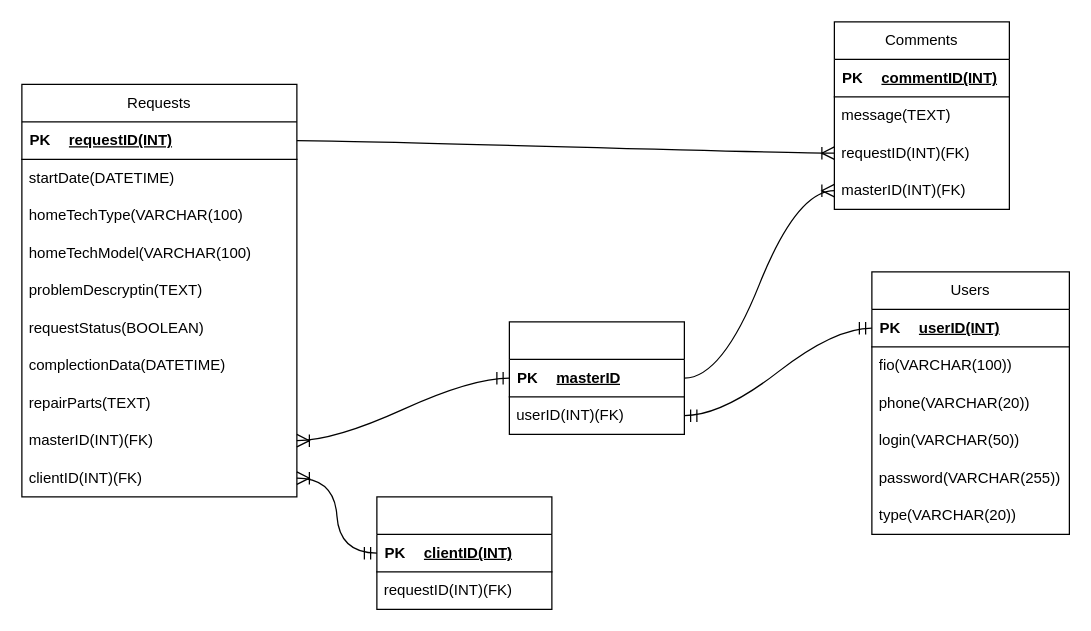
Some shapes in this 1091 by 631 pixel diagram are drawn without their labels. Here are the shapes that lost their labels. From the top down, the box of each, then its label:
(508, 321, 684, 434): Masters
(376, 496, 552, 609): Clients
